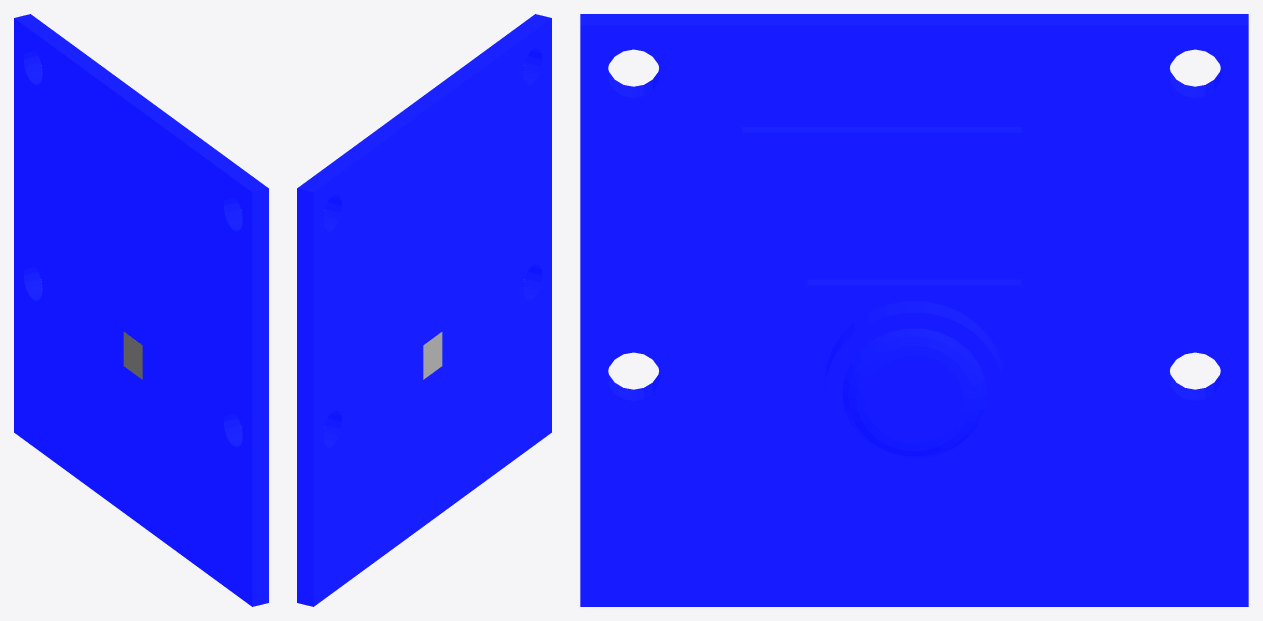
Rendered from ROSCAR2_PiCameraV2.dae.
The picture shows the model from 3 angles, left to right: view 1: azimuth 30°, elevation 25°; view 2: azimuth 150°, elevation 25°; view 3: azimuth 270°, elevation 25°; orthographic projection. The views are drawn at different scales.
Visible parts, largest first — view 1: CATIA STL, Cube; view 2: CATIA STL, Cube; view 3: CATIA STL.
Boxes of the visible parts, x1,y1,x2,y2 form: CATIA STL: [14, 14, 268, 606]; Cube: [123, 332, 142, 379]; CATIA STL: [297, 14, 551, 606]; Cube: [423, 332, 442, 379]; CATIA STL: [580, 14, 1248, 606].
Bounding box in the file's own units: 3 × 25 × 24.
